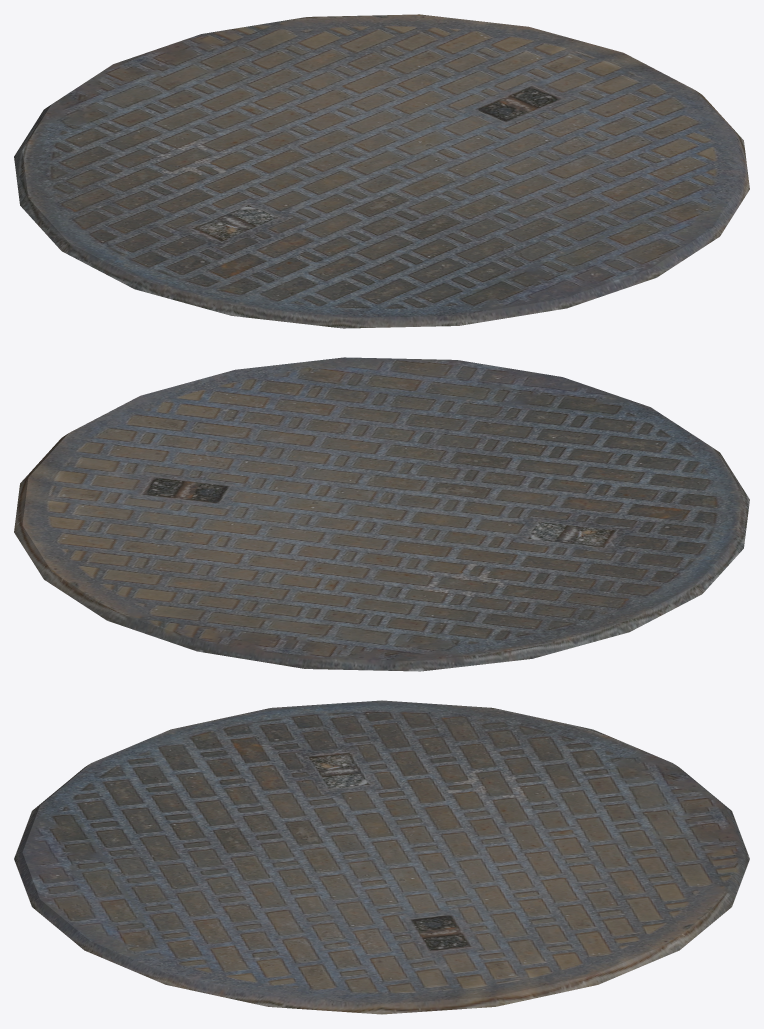
The model's file is utilityholeA_circle.fbx.
3 renders of one model, top to bottom at view 1: azimuth 30°, elevation 25°; view 2: azimuth 150°, elevation 25°; view 3: azimuth 270°, elevation 25°, orthographic.
Visible parts, largest first — view 1: utilityholeA_circle; view 2: utilityholeA_circle; view 3: utilityholeA_circle.
Boxes of the visible parts, x1,y1,x2,y2 form: utilityholeA_circle: [14, 14, 749, 328]; utilityholeA_circle: [14, 357, 749, 671]; utilityholeA_circle: [14, 700, 749, 1014].
Size of the model in its own units: 50 by 0.4942 by 50.
Materials: 1 (1 with a texture image).
